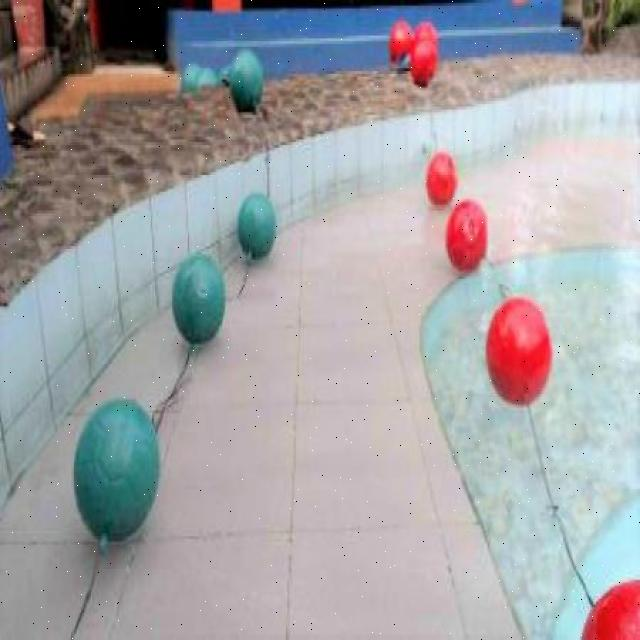buoy: (72, 396, 158, 540), (484, 298, 550, 407), (172, 251, 226, 345), (446, 200, 487, 276), (236, 191, 275, 257), (230, 50, 262, 109), (425, 150, 458, 206), (406, 38, 436, 88)
